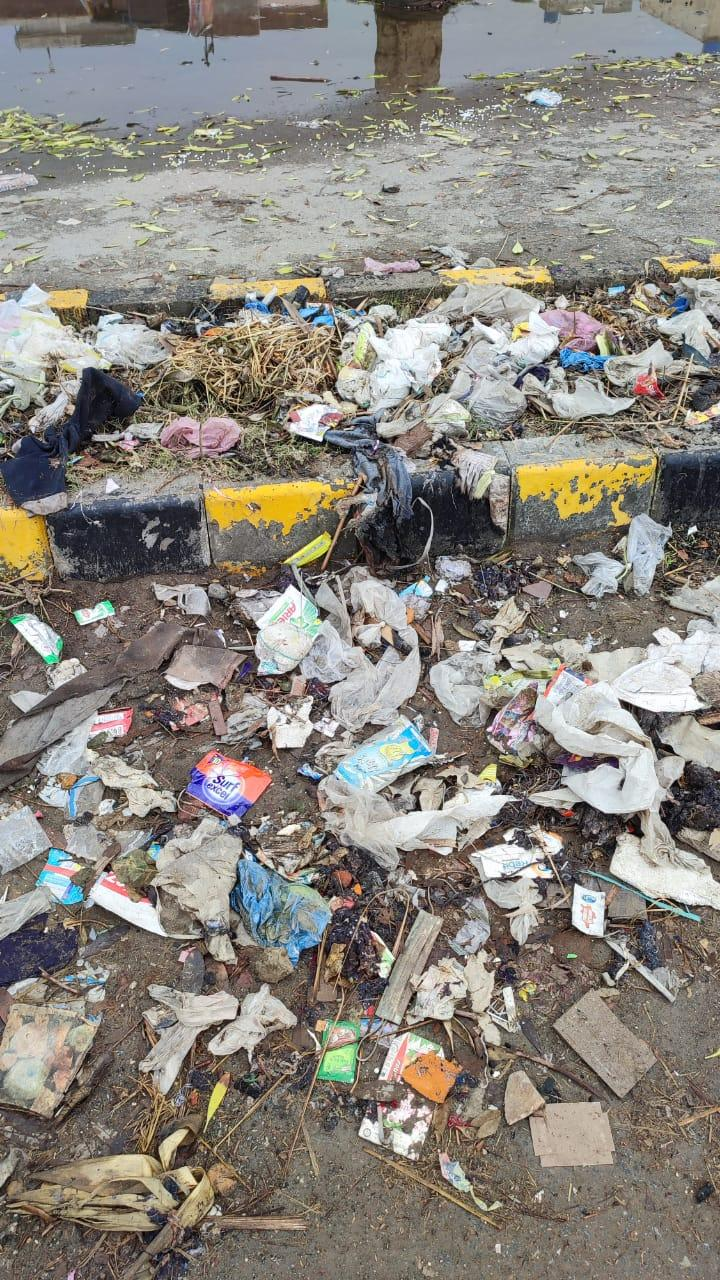garbage: (0, 276, 720, 1227)
